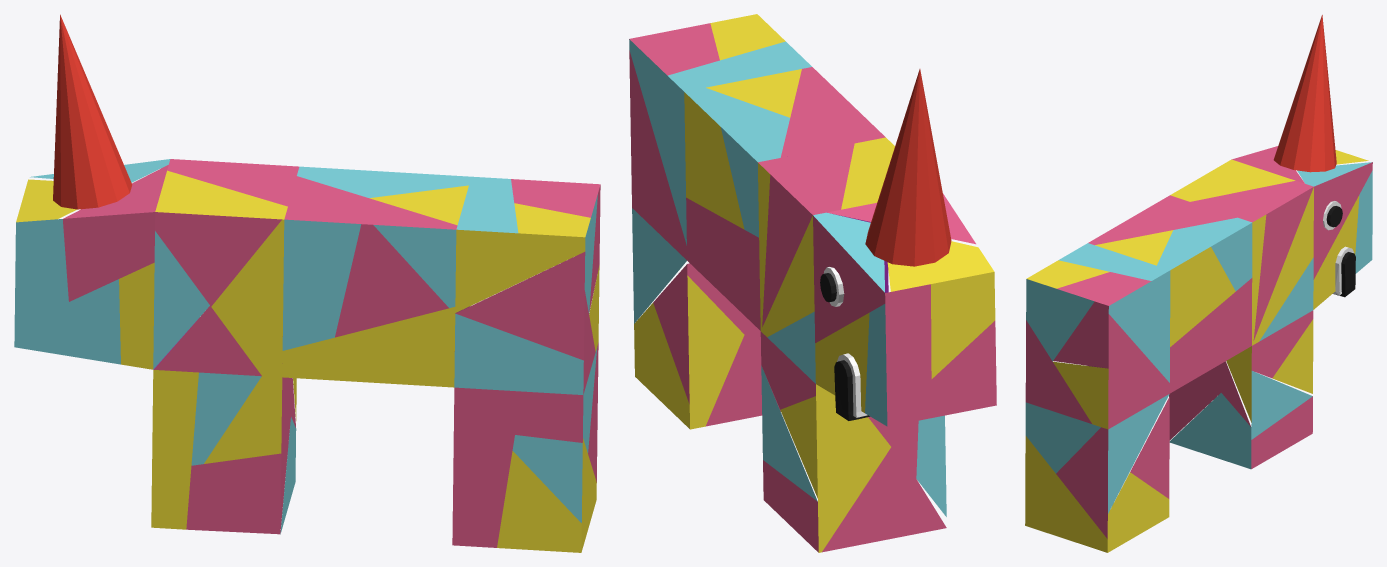
The model's file is animals-single-rhino-184.glb.
The picture shows the model from 3 angles, left to right: view 1: azimuth 30°, elevation 25°; view 2: azimuth 150°, elevation 25°; view 3: azimuth 270°, elevation 25°; orthographic projection. The views are drawn at different scales.
Visible parts, largest first — view 1: Node; view 2: Node; view 3: Node.
Part boxes in pixels (x1,y1,x2,y2): Node: (14, 14, 600, 552); Node: (629, 14, 996, 552); Node: (1025, 15, 1372, 552).
Bounding box in the file's own units: 1.19 × 1.19 × 0.9762.
